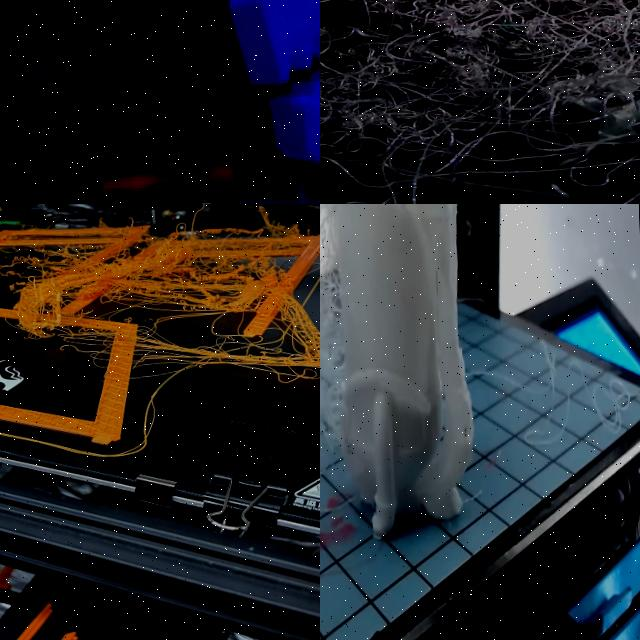spaghetti: (320, 0, 640, 204), (0, 225, 320, 372), (460, 276, 638, 464)
